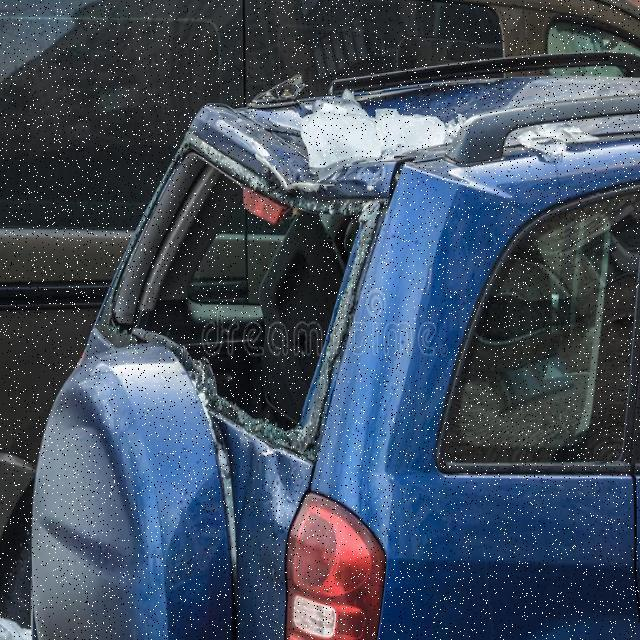Rear-windscreen-Damage: (95, 124, 382, 468)
roof-dent: (186, 37, 640, 214)
